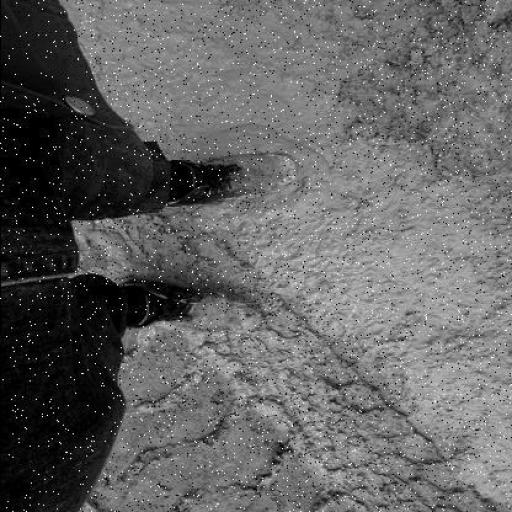safety_shoe: (174, 149, 296, 209), (120, 290, 255, 343)
